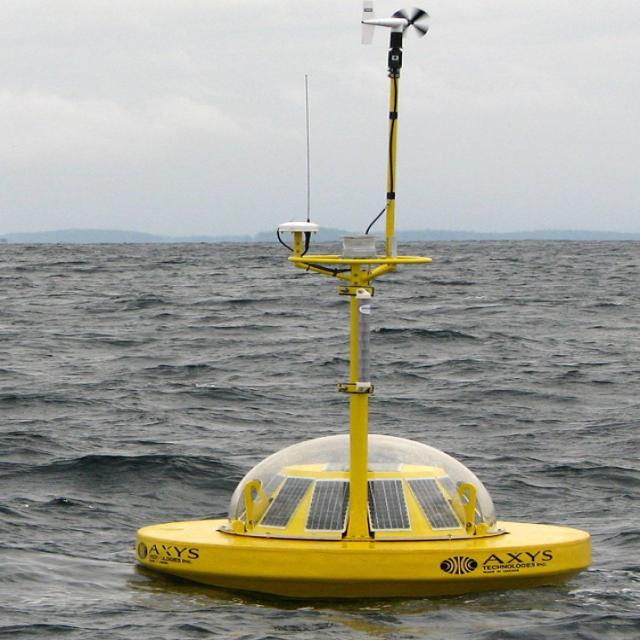buoy: (129, 204, 595, 592)
